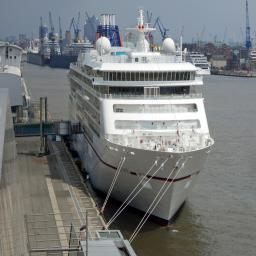cruises: (69, 18, 217, 230)
